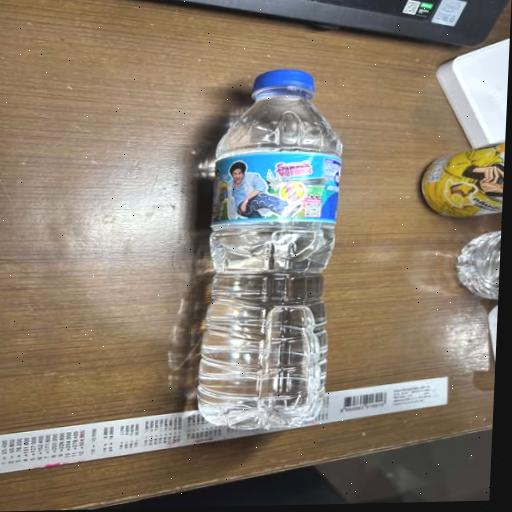ba: (119, 36, 379, 435)
